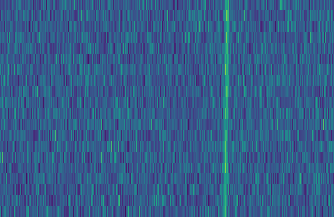signal: (221, 0, 232, 217)
